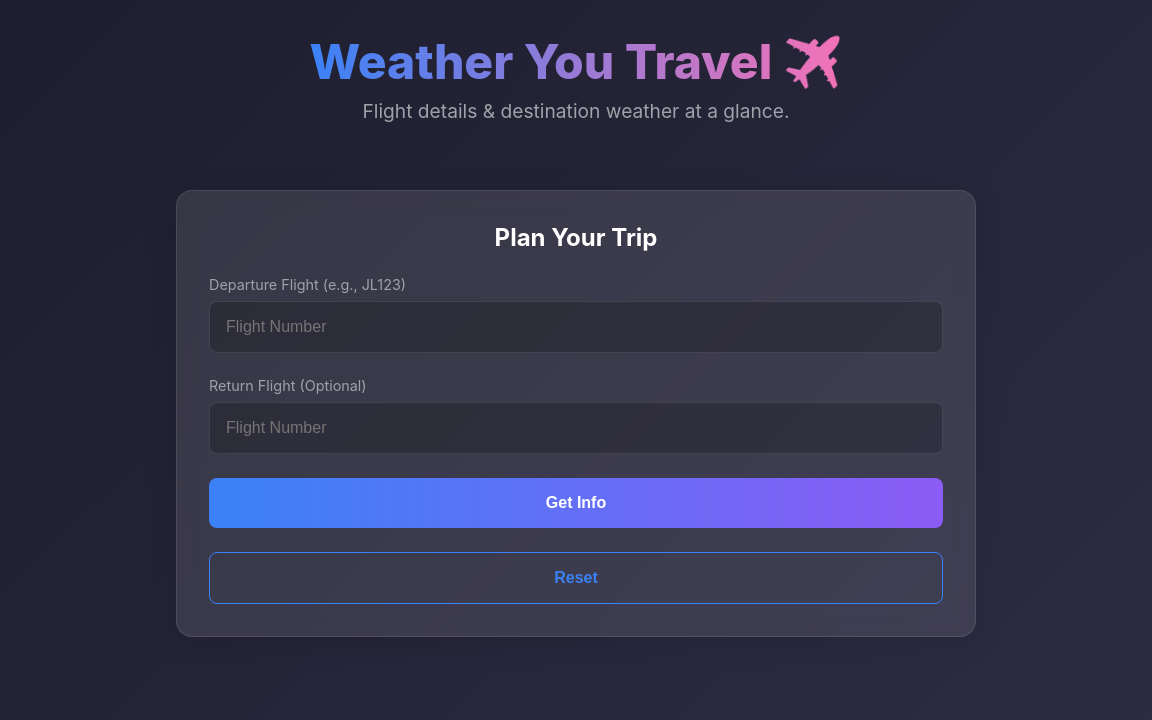
Test: App › fetches return flight and weather for destination when return flight is provided
Type "JL123" into the field labelled "Departure Flight (e.g., JL123)" at (576, 327), box x1=209 y1=301 x2=943 y2=353
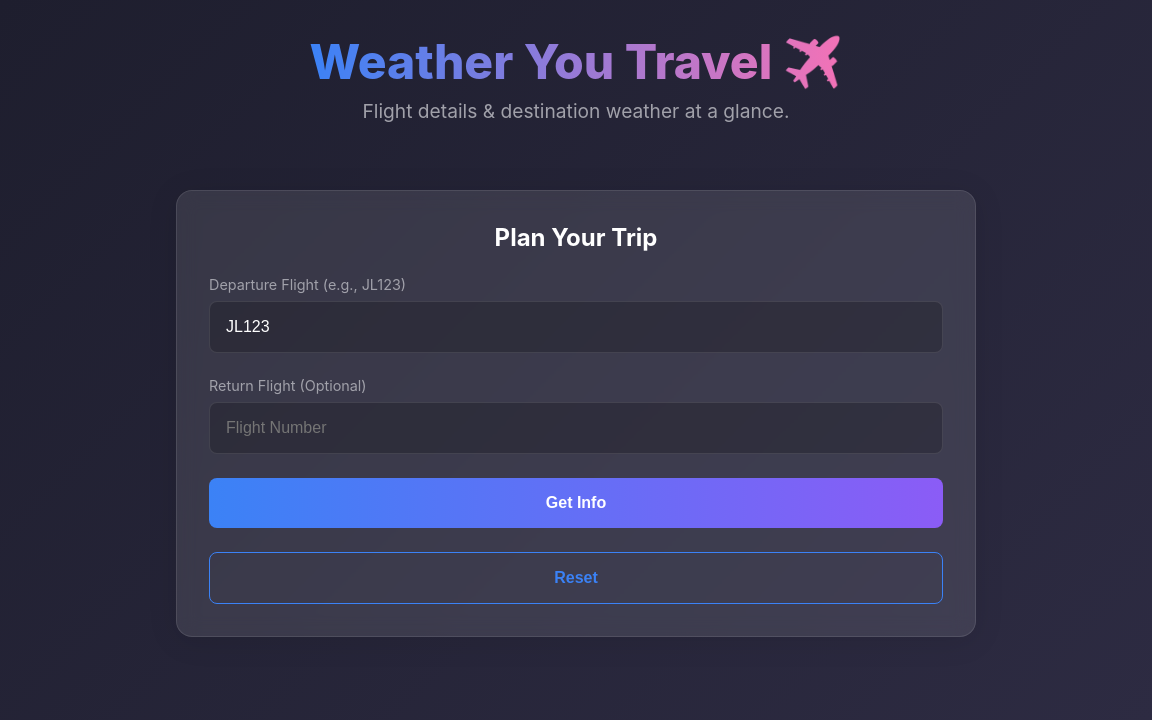
Type "NH456" into the field labelled "Return Flight (Optional)" at (576, 428), box x1=209 y1=402 x2=943 y2=454
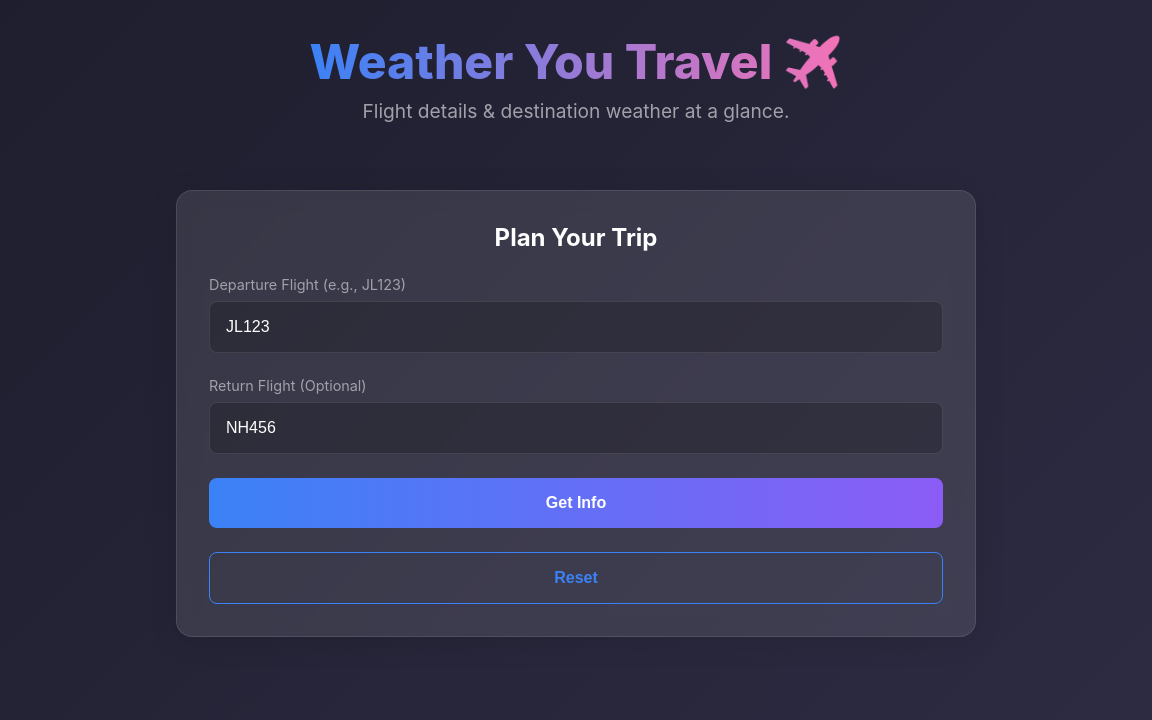
Click the button "Get Info" at (576, 503), box x1=209 y1=478 x2=943 y2=528
(page scrolled)
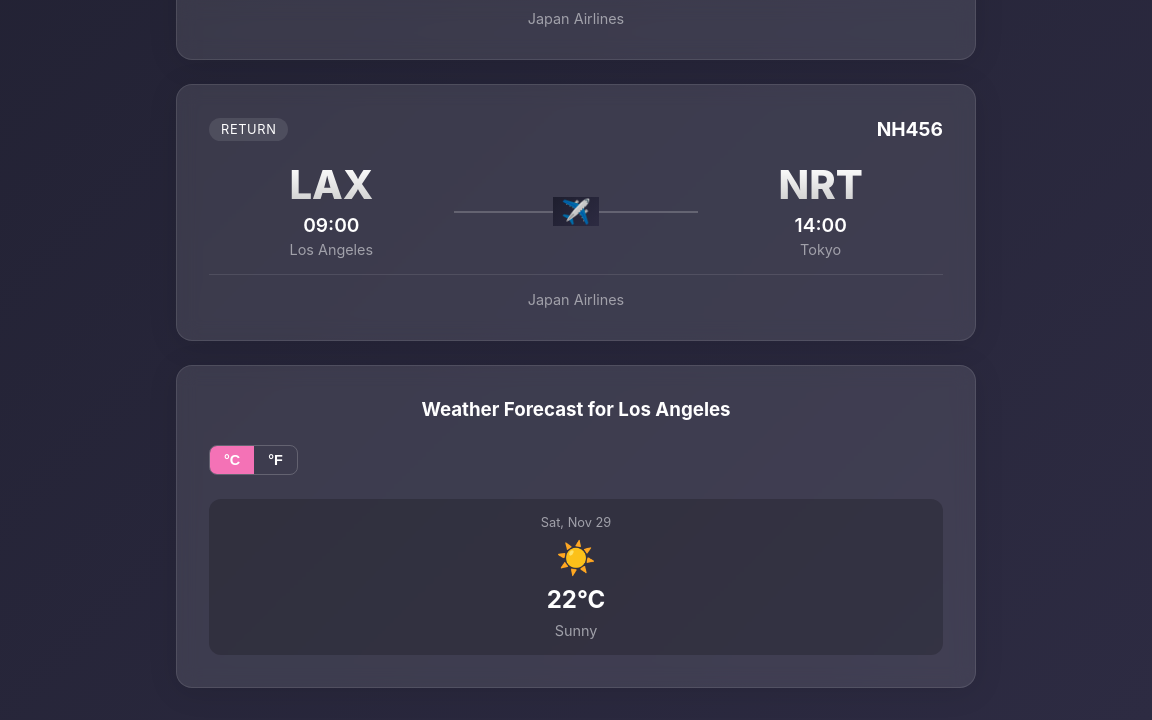
Check: the text "Sunny" is shown, box x1=555 y1=622 x2=597 y2=639
